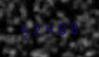eight: (54, 19, 65, 36), (66, 19, 77, 35)
five: (18, 21, 29, 38)
four: (42, 20, 53, 36)
two: (30, 21, 41, 37)
